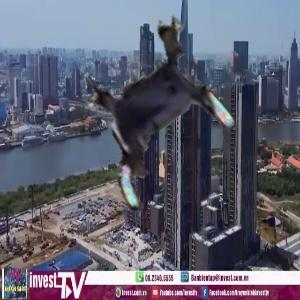drone: (68, 27, 243, 202)
